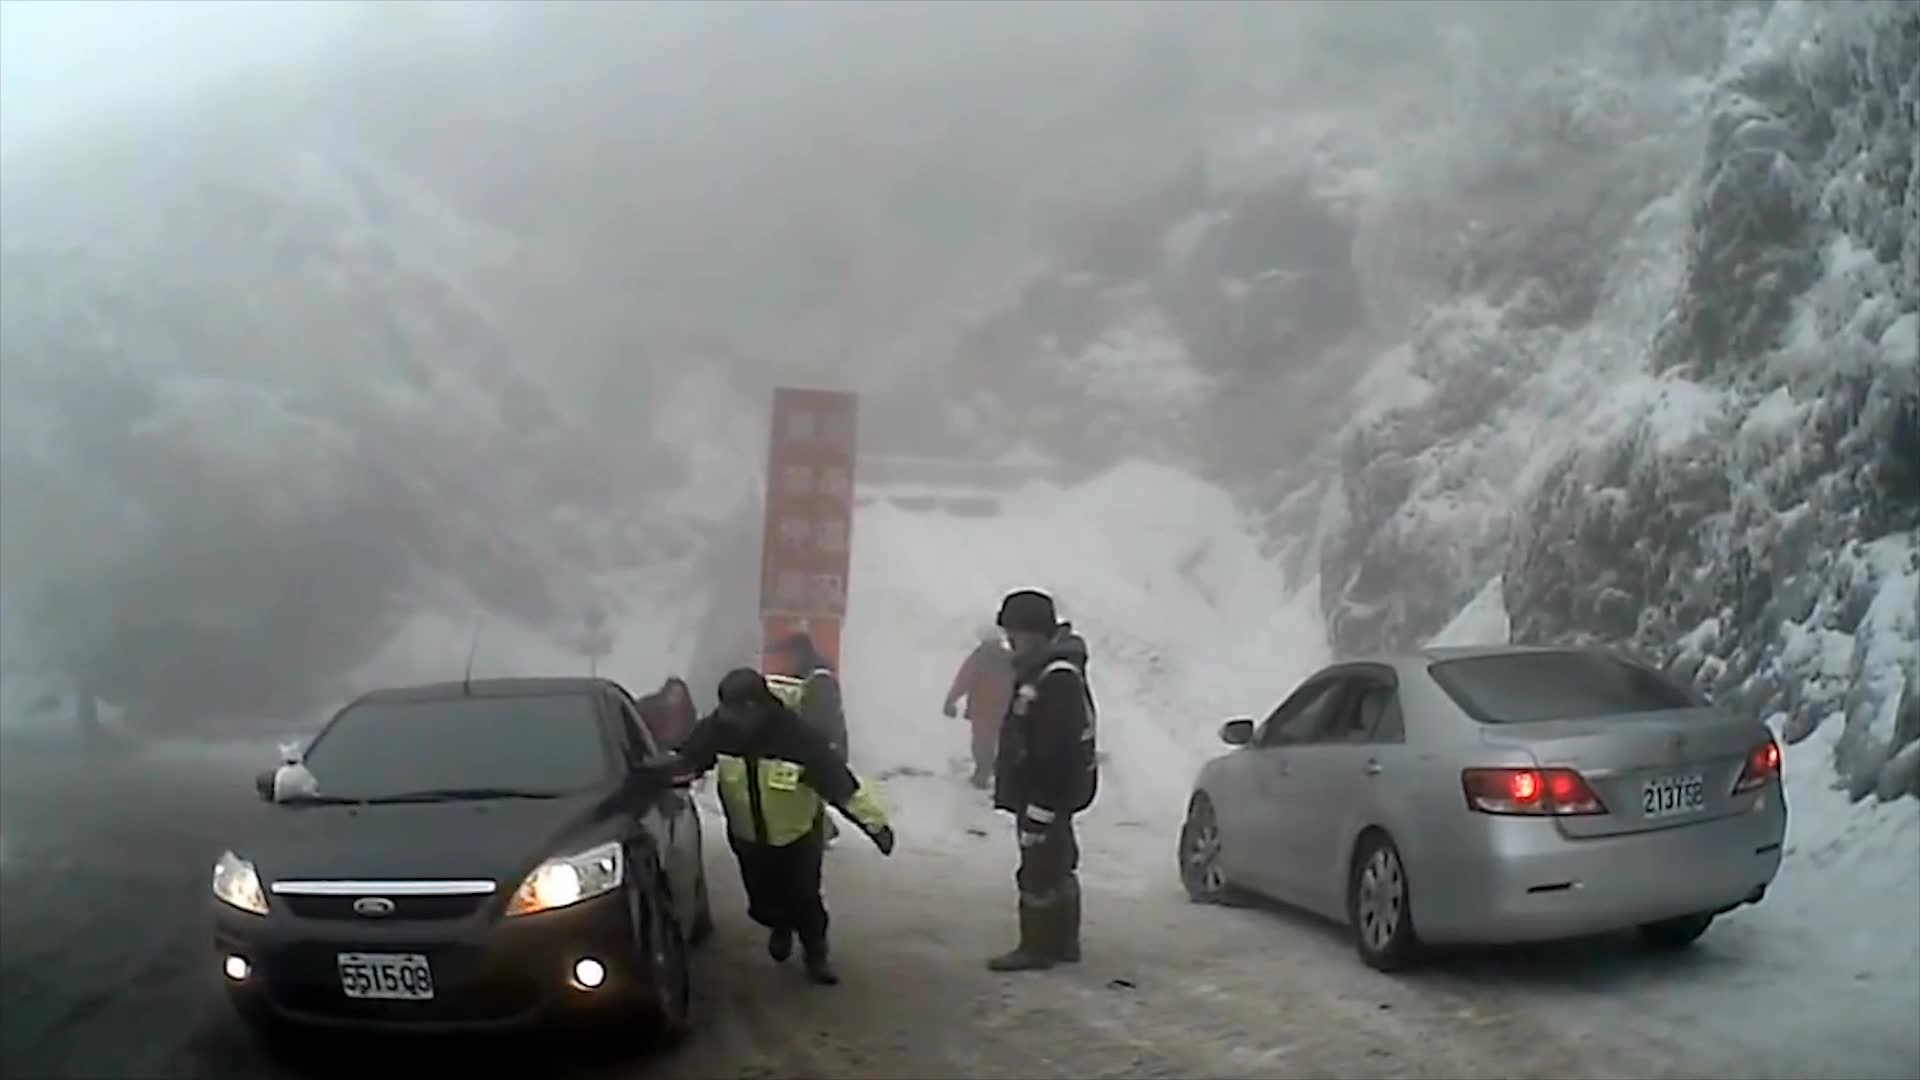pedestrian: (665, 667, 873, 991), (980, 591, 1101, 975), (770, 633, 847, 862), (944, 612, 1031, 795), (622, 672, 703, 853)
vehicle: (1173, 643, 1787, 973), (201, 676, 713, 1053)
